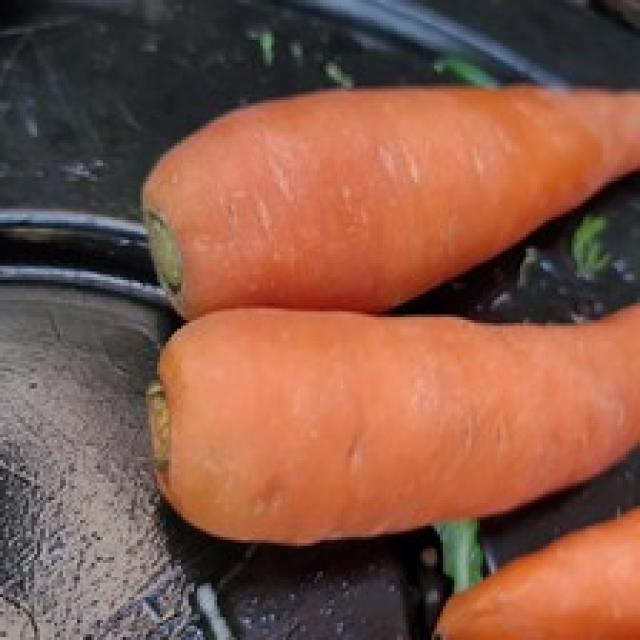Fresh_Carrot: (137, 315, 640, 530), (135, 78, 640, 268)
